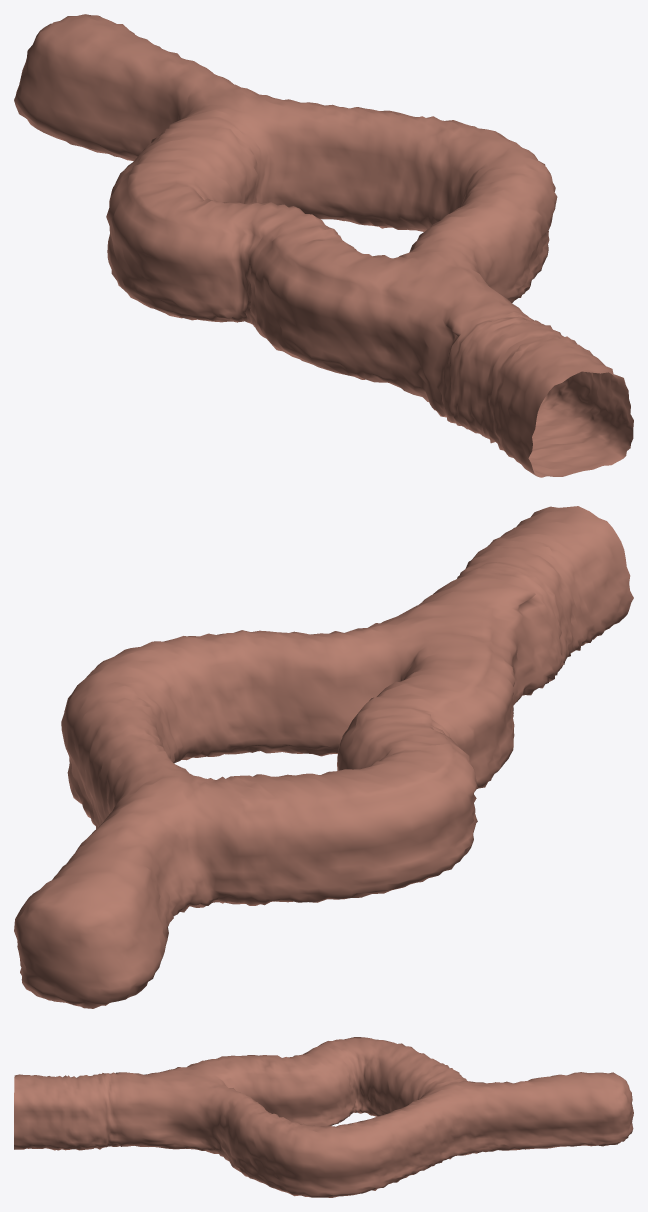
File: cave.glb
The picture shows the model from 3 angles, top to bottom: view 1: azimuth 30°, elevation 25°; view 2: azimuth 150°, elevation 25°; view 3: azimuth 270°, elevation 25°; orthographic projection. The views are drawn at different scales.
Parts seen in each view (by area): view 1: Cube; view 2: Cube; view 3: Cube.
Boxes of the visible parts, left/top/right/bottom form: Cube: left=14, top=14, right=633, bottom=477; Cube: left=14, top=506, right=633, bottom=1008; Cube: left=14, top=1037, right=633, bottom=1197.
Bounding box in the file's own units: 23.87 × 6.33 × 54.87.
